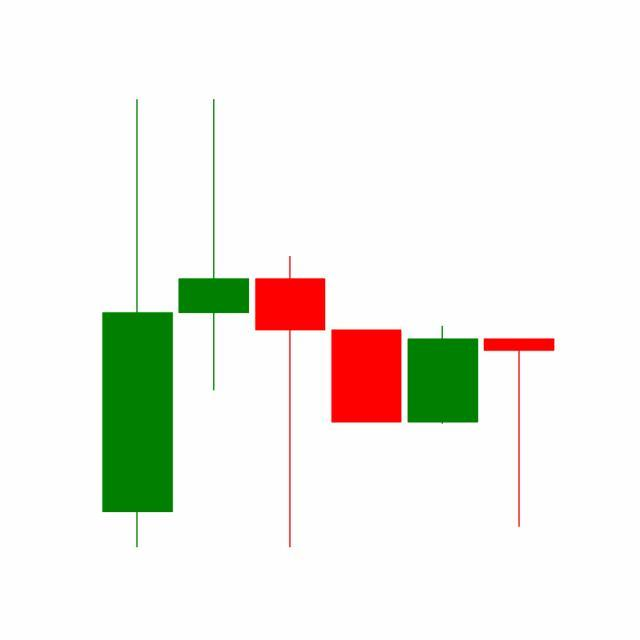Marubozu: (404, 324, 482, 426)
